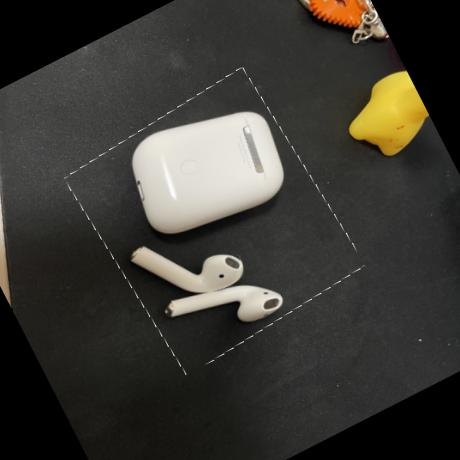airpod2: (63, 63, 368, 379)
